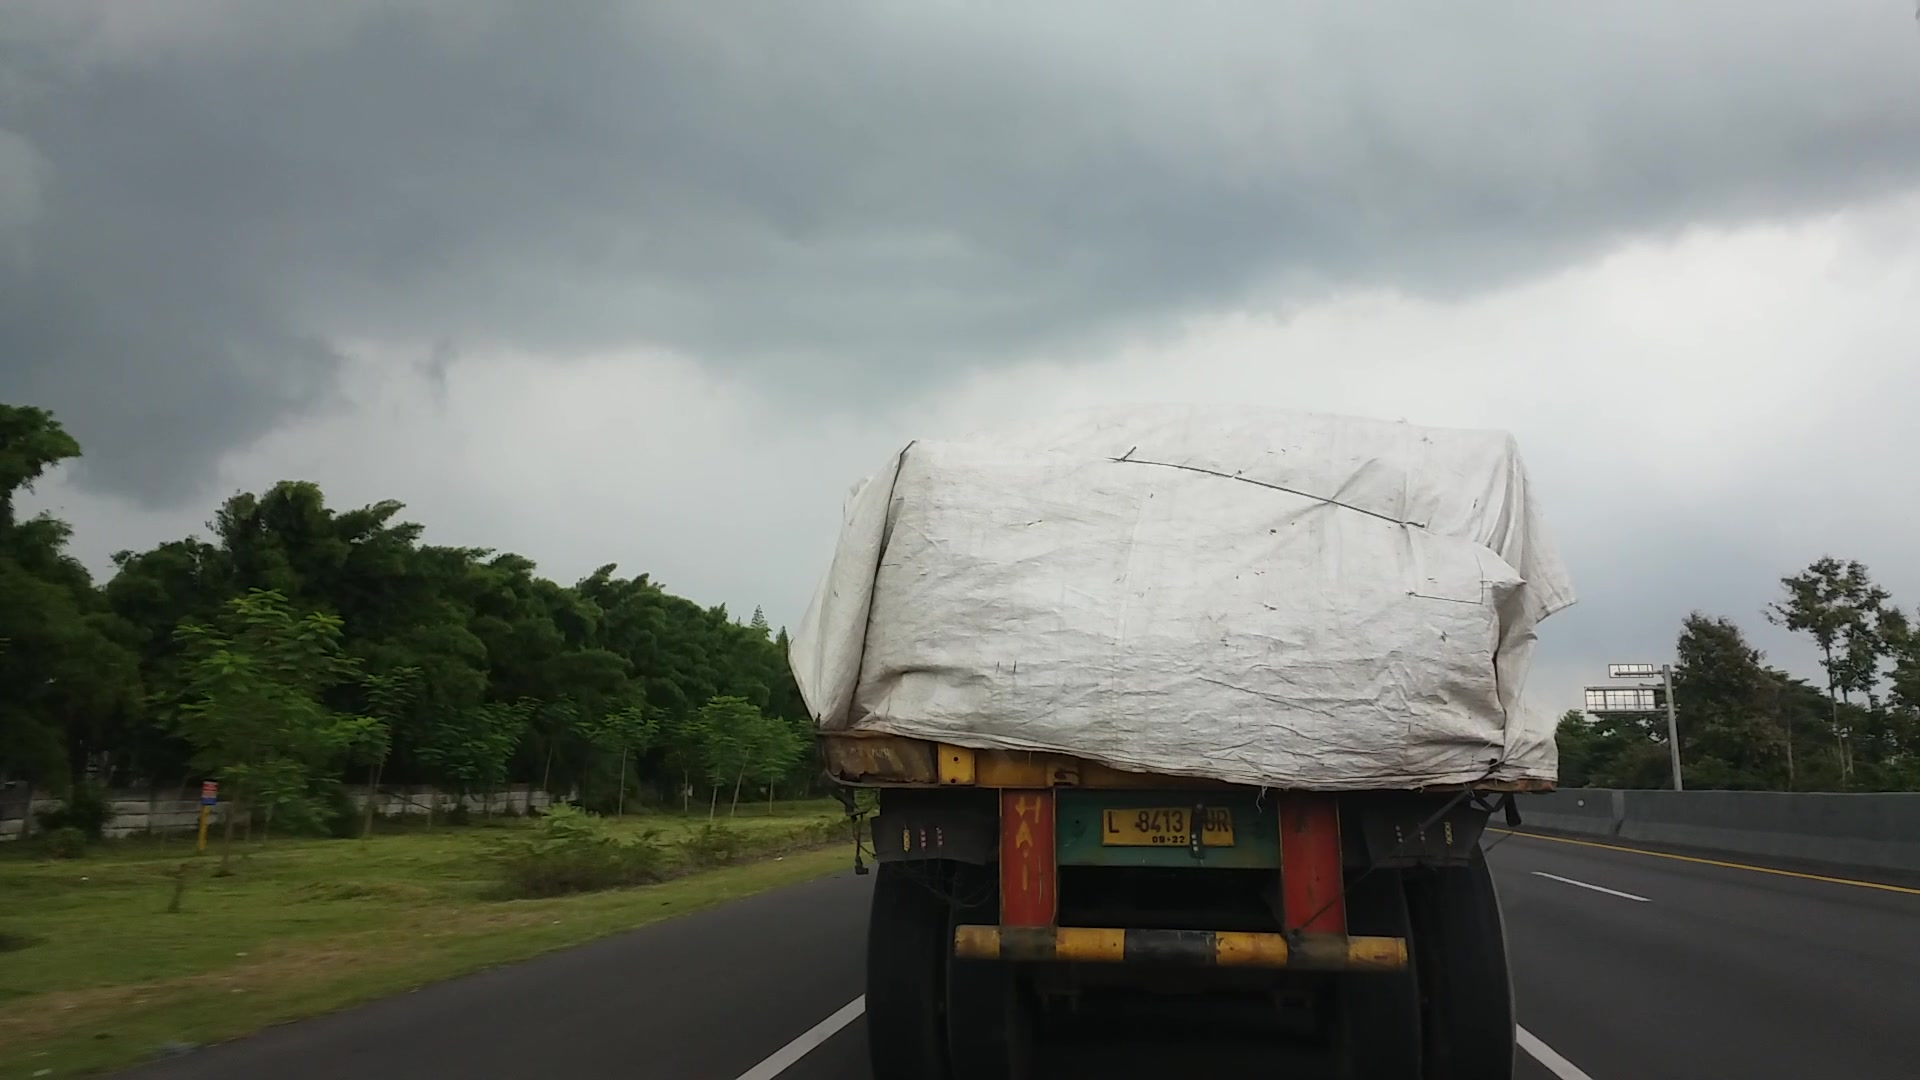plate_positive: (1101, 804, 1236, 848)
